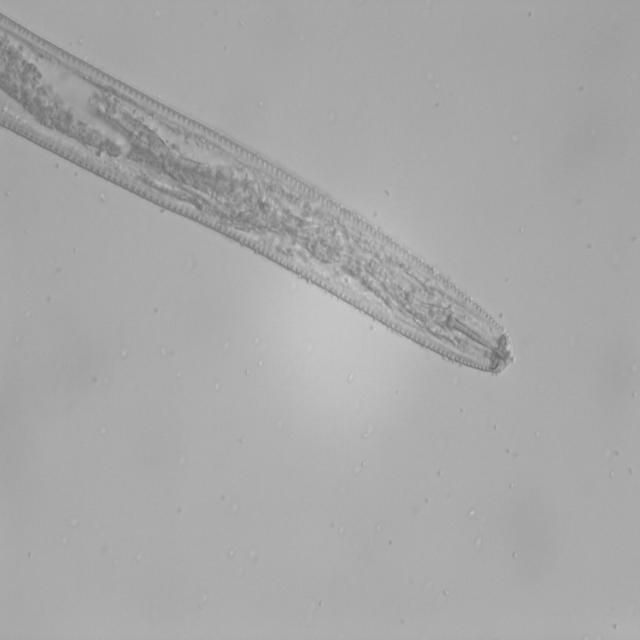Radopholus: (0, 18, 523, 381)
